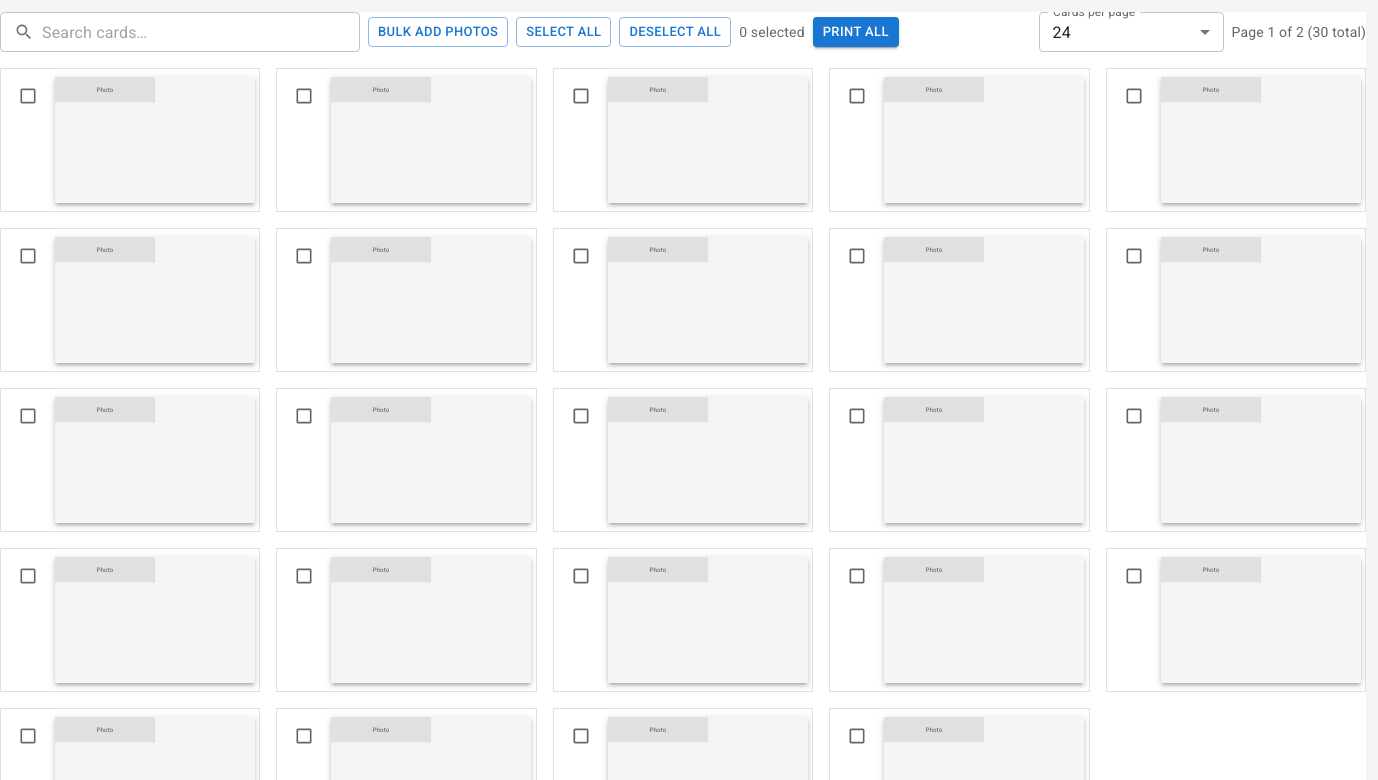
Test: PreviewStep — cards per page › changing rows-per-page resets to page 1 and updates the summary
The image size is (1378, 780).
Expected: the text "Page 1 of 2 (30 total)" is shown, [1232, 22, 1366, 42]
What coordinates should you click on to do the following:
click the dropdown labelled "24"
I would click on:
 (1062, 32)
Its box is [1053, 22, 1071, 42].
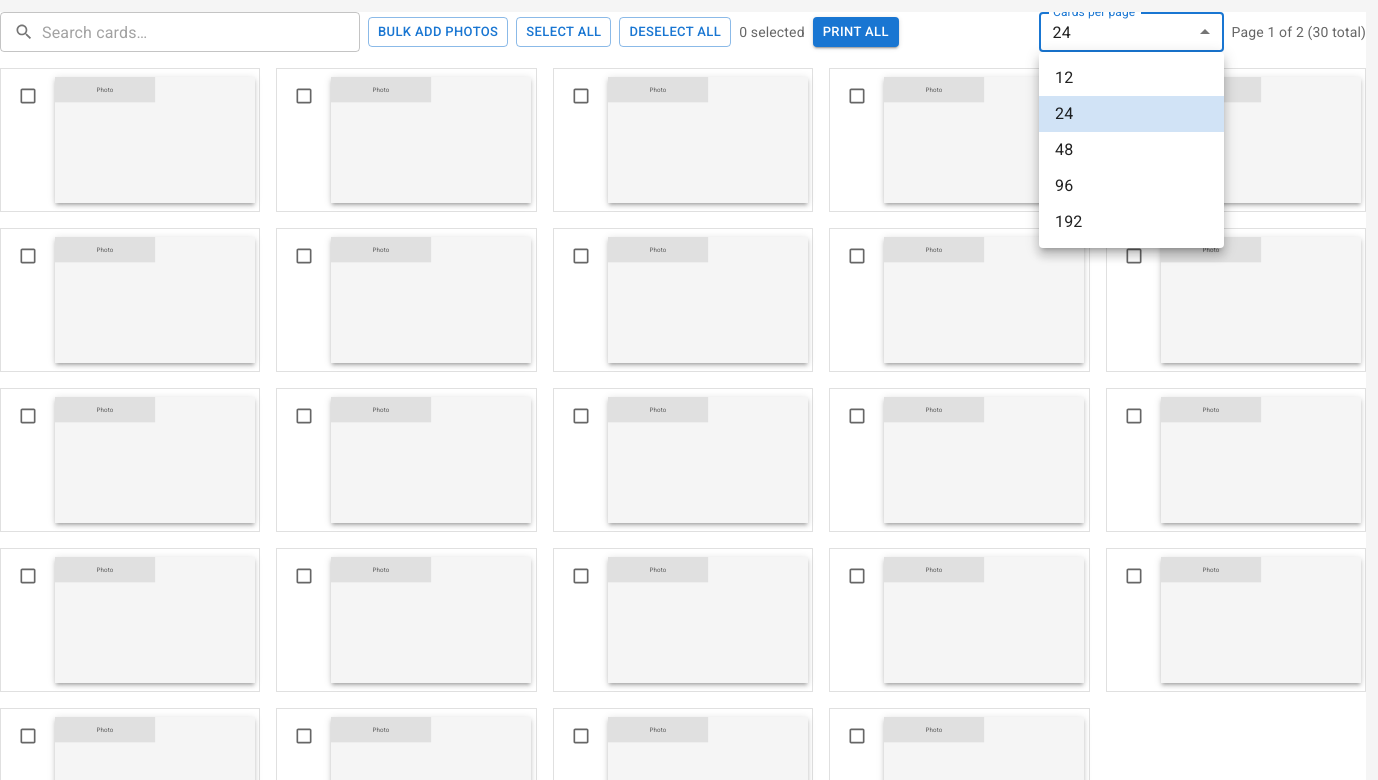
What coordinates should you click on to do the following:
click the option "48"
I would click on:
 (1064, 150)
Its box is [1055, 140, 1073, 159].
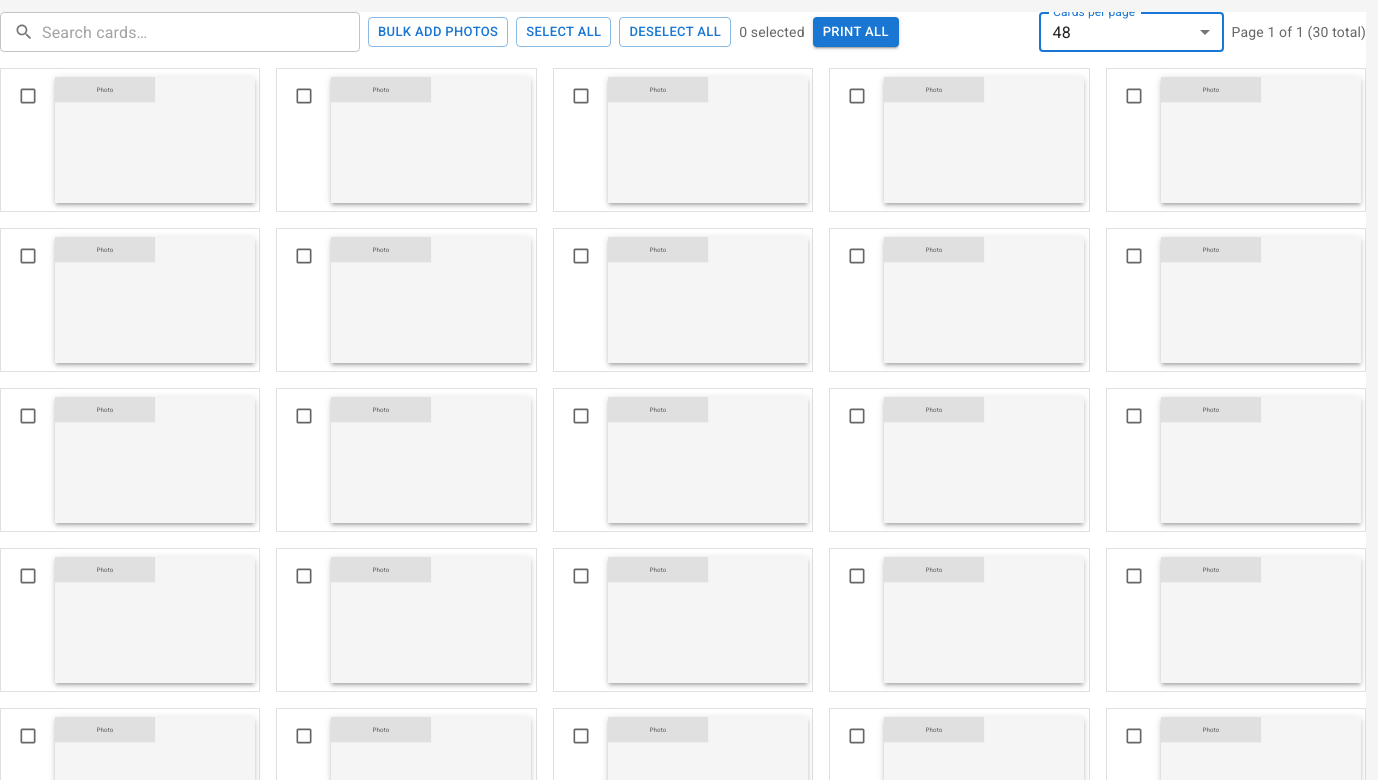
Expected: the text "Page 1 of 1 (30 total)" is shown, [1232, 22, 1366, 42]
